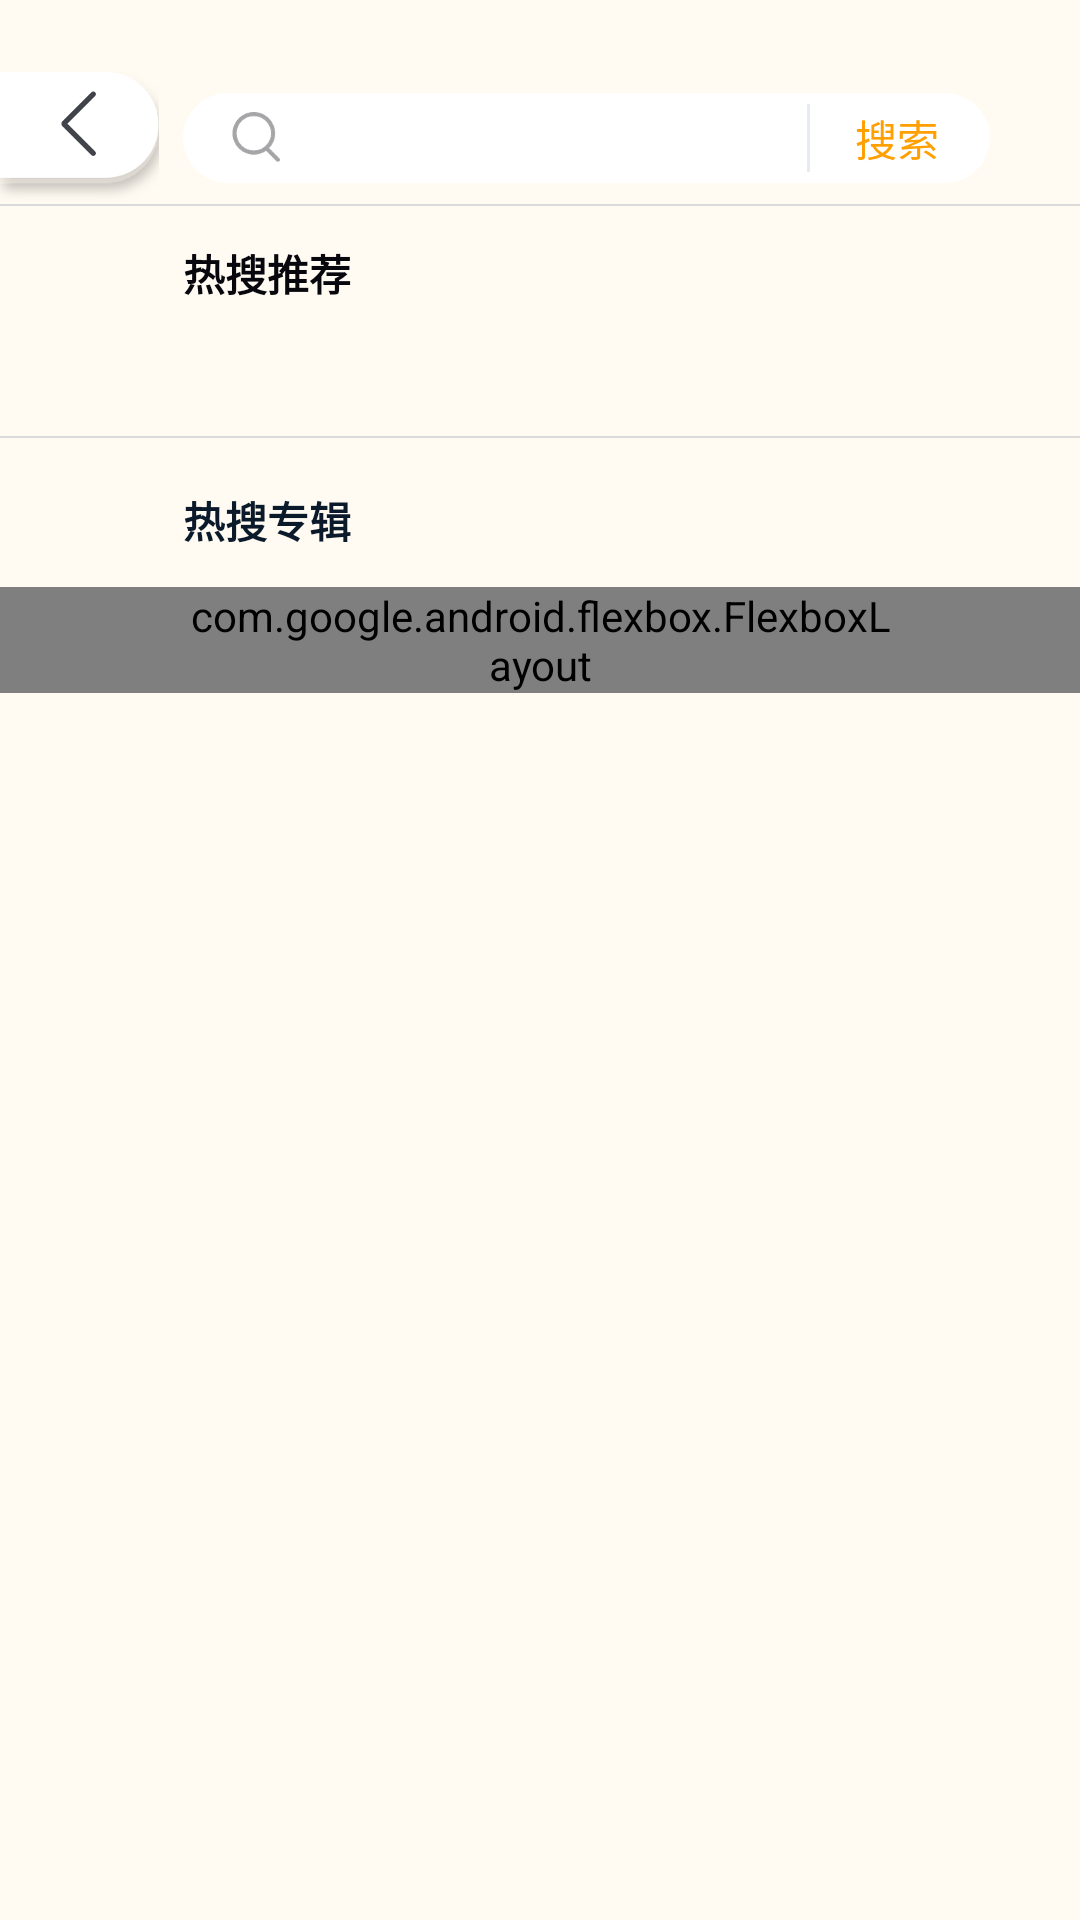

Where to tap for icons on this 1080px x 1920px app screen, as [x,y]:
back: [79,134]
search: [256,137]
